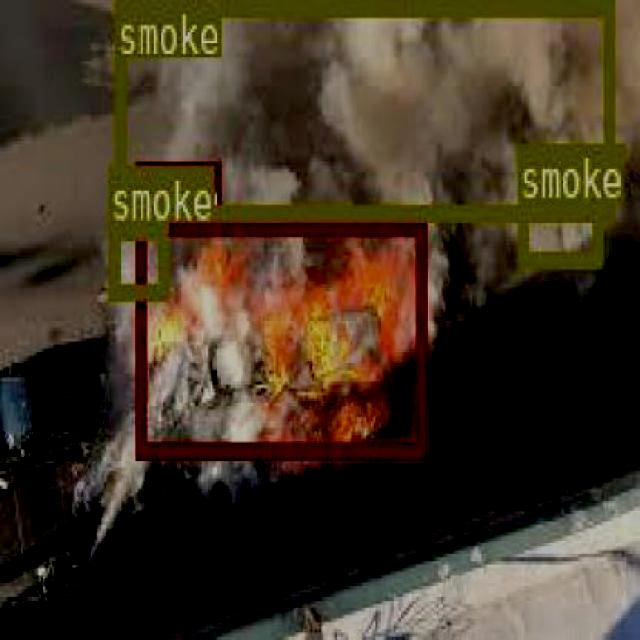fire: (133, 217, 424, 456)
smoke: (115, 0, 610, 215), (516, 200, 602, 266), (106, 220, 166, 294)
